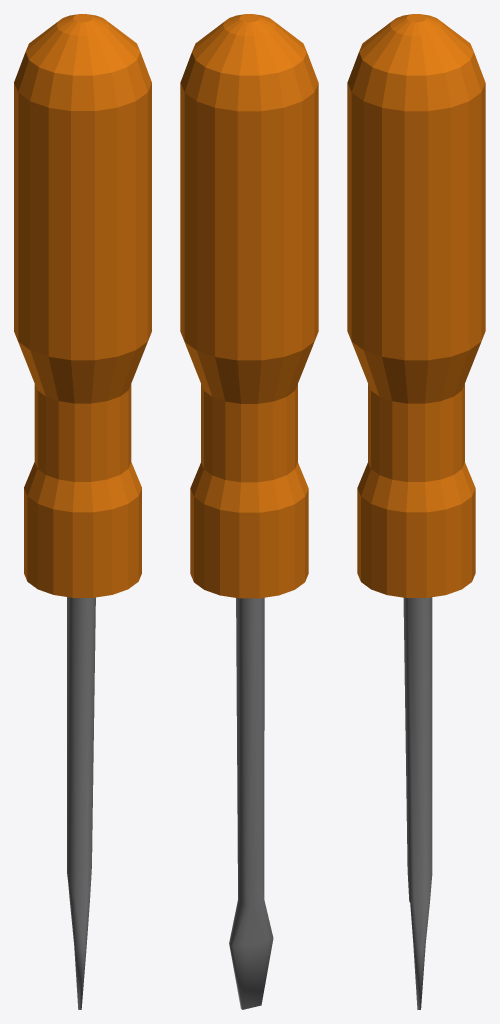
Rendered from desarmador.fbx.
3 views of the same model, side by side, from view 1: azimuth 90°, elevation 25°; view 2: azimuth 210°, elevation 25°; view 3: azimuth 270°, elevation 25° (orthographic).
Visible parts, largest first — view 1: Cylinder, Cylinder01; view 2: Cylinder, Cylinder01; view 3: Cylinder, Cylinder01.
Part boxes in pixels (left/top/right/bottom): Cylinder: left=14, top=14, right=151, bottom=597; Cylinder01: left=67, top=597, right=95, bottom=1009; Cylinder: left=180, top=14, right=318, bottom=598; Cylinder01: left=229, top=597, right=273, bottom=1009; Cylinder: left=347, top=14, right=485, bottom=597; Cylinder01: left=403, top=597, right=432, bottom=1009.
Bounding box in the file's own units: 96.22 × 771 × 97.7.
